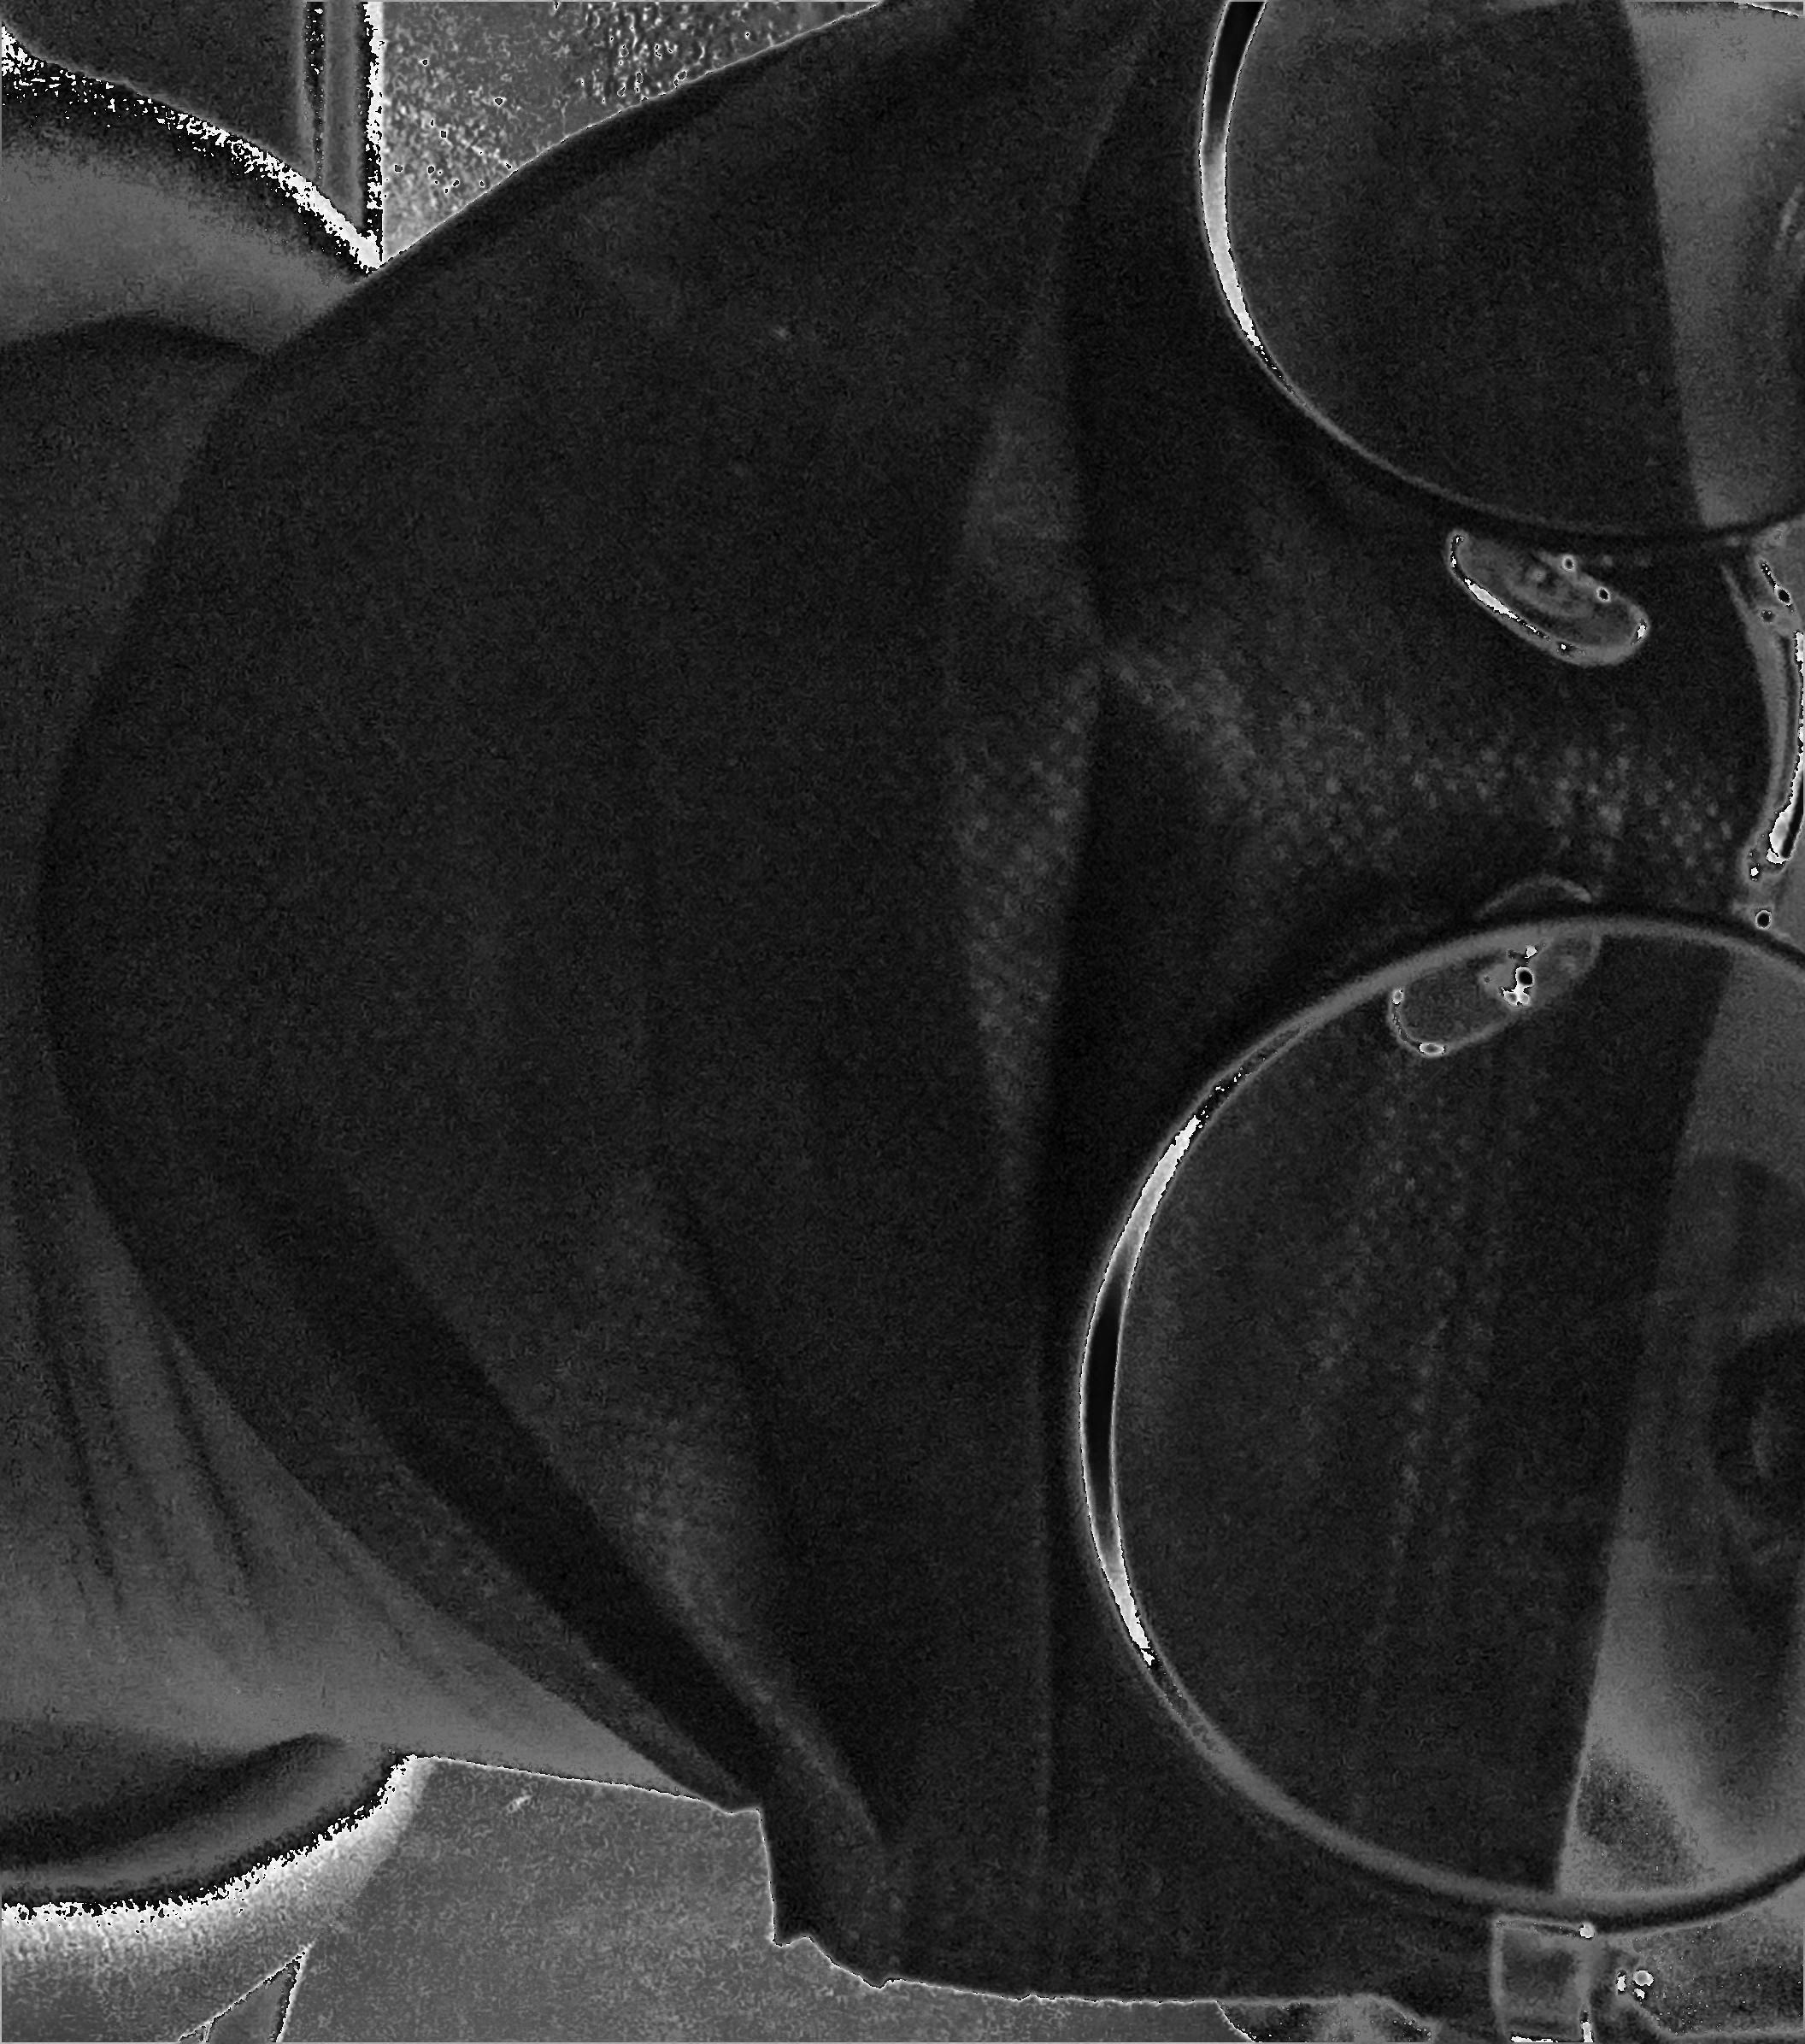Low GSM: (629, 124, 1160, 1530), (260, 472, 594, 1382)
Undefined Area: (1345, 850, 1634, 1091), (1403, 491, 1669, 695)
